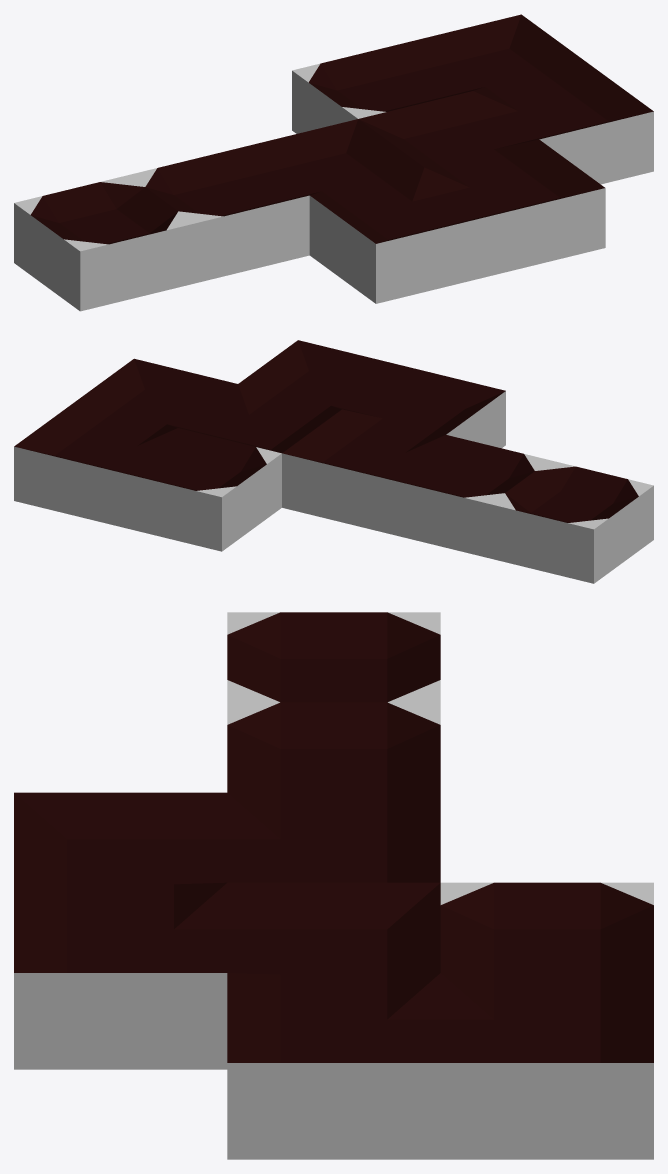
File: 30s_path.obj
The picture shows the model from 3 angles, top to bottom: view 1: azimuth 30°, elevation 25°; view 2: azimuth 150°, elevation 25°; view 3: azimuth 270°, elevation 25°; orthographic projection. The views are drawn at different scales.
Visible parts, largest first — view 1: hole.0.3_Cube.060, corner.2.2_corner.293, corner.3.2_corner.295, ending.1.3_ending.117, corner.4.3_corner.297, corner.2.3_corner.294, corner.4.4_corner.298, ending.3.4_ending.118, corner.3.3_corner.296; view 2: hole.0.3_Cube.060, ending.3.4_ending.118, corner.4.4_corner.298, corner.2.3_corner.294, ending.1.3_ending.117, corner.2.2_corner.293, corner.4.3_corner.297, corner.3.2_corner.295, corner.3.3_corner.296; view 3: corner.3.2_corner.295, corner.4.4_corner.298, corner.4.3_corner.297, corner.3.3_corner.296, ending.3.4_ending.118, corner.2.2_corner.293, ending.1.3_ending.117, hole.0.3_Cube.060, corner.2.3_corner.294.
Boxes of the visible parts, bbox=[...] form: hole.0.3_Cube.060: bbox=[14, 175, 194, 311]; corner.2.2_corner.293: bbox=[309, 167, 490, 303]; corner.3.2_corner.295: bbox=[425, 139, 605, 275]; ending.1.3_ending.117: bbox=[129, 147, 309, 283]; corner.4.3_corner.297: bbox=[473, 63, 653, 184]; corner.2.3_corner.294: bbox=[243, 119, 423, 203]; corner.4.4_corner.298: bbox=[407, 14, 587, 98]; ending.3.4_ending.118: bbox=[292, 42, 470, 133]; corner.3.3_corner.296: bbox=[359, 91, 538, 175]; hole.0.3_Cube.060: bbox=[490, 460, 653, 583]; ending.3.4_ending.118: bbox=[118, 428, 281, 551]; corner.4.4_corner.298: bbox=[14, 403, 177, 526]; corner.2.3_corner.294: bbox=[282, 409, 445, 532]; ending.1.3_ending.117: bbox=[386, 435, 549, 558]; corner.2.2_corner.293: bbox=[342, 365, 505, 448]; corner.4.3_corner.297: bbox=[74, 358, 237, 434]; corner.3.2_corner.295: bbox=[238, 340, 401, 416]; corner.3.3_corner.296: bbox=[180, 384, 341, 453]; corner.3.2_corner.295: bbox=[14, 883, 227, 1069]; corner.4.4_corner.298: bbox=[440, 973, 653, 1159]; corner.4.3_corner.297: bbox=[227, 973, 440, 1159]; corner.3.3_corner.296: bbox=[227, 882, 440, 996]; ending.3.4_ending.118: bbox=[440, 882, 653, 996]; corner.2.2_corner.293: bbox=[14, 792, 227, 906]; ending.1.3_ending.117: bbox=[227, 702, 440, 816]; hole.0.3_Cube.060: bbox=[227, 612, 440, 702]; corner.2.3_corner.294: bbox=[227, 792, 440, 882].
Bounding box in the file's own units: 10 × 1 × 6.
